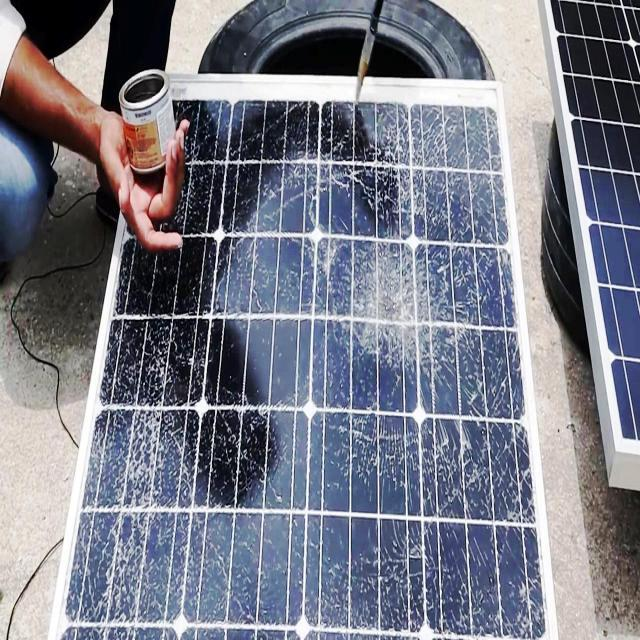faulty: (53, 58, 553, 632)
no faulty: (548, 1, 640, 447)
